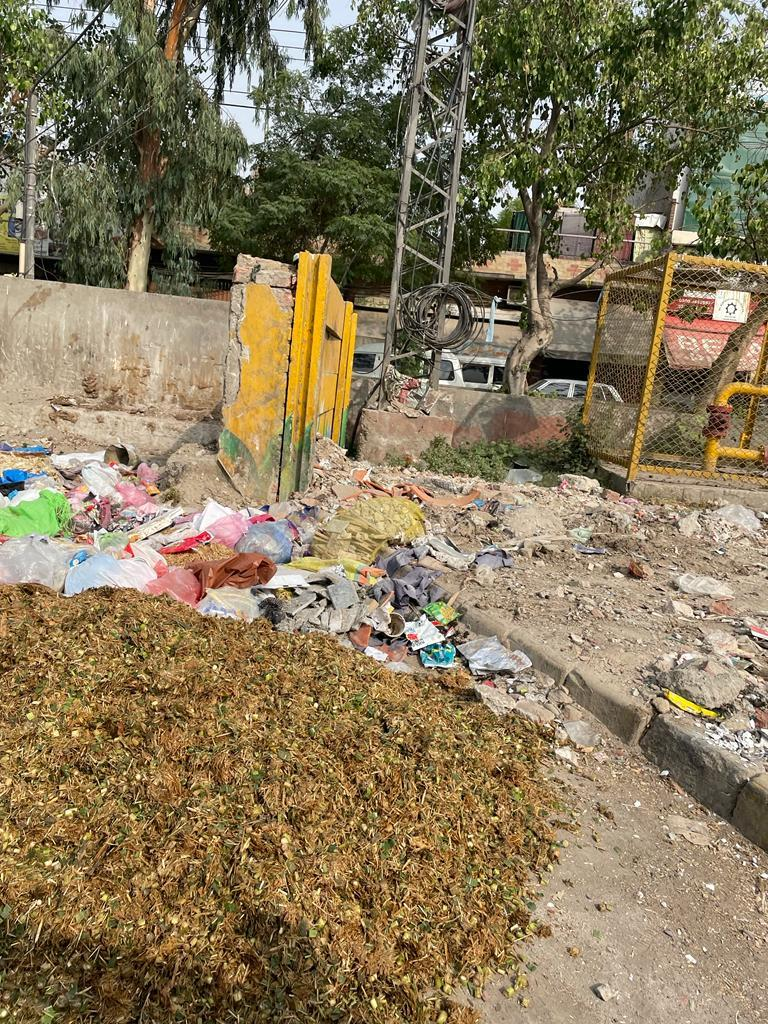garbage: (0, 426, 768, 748)
